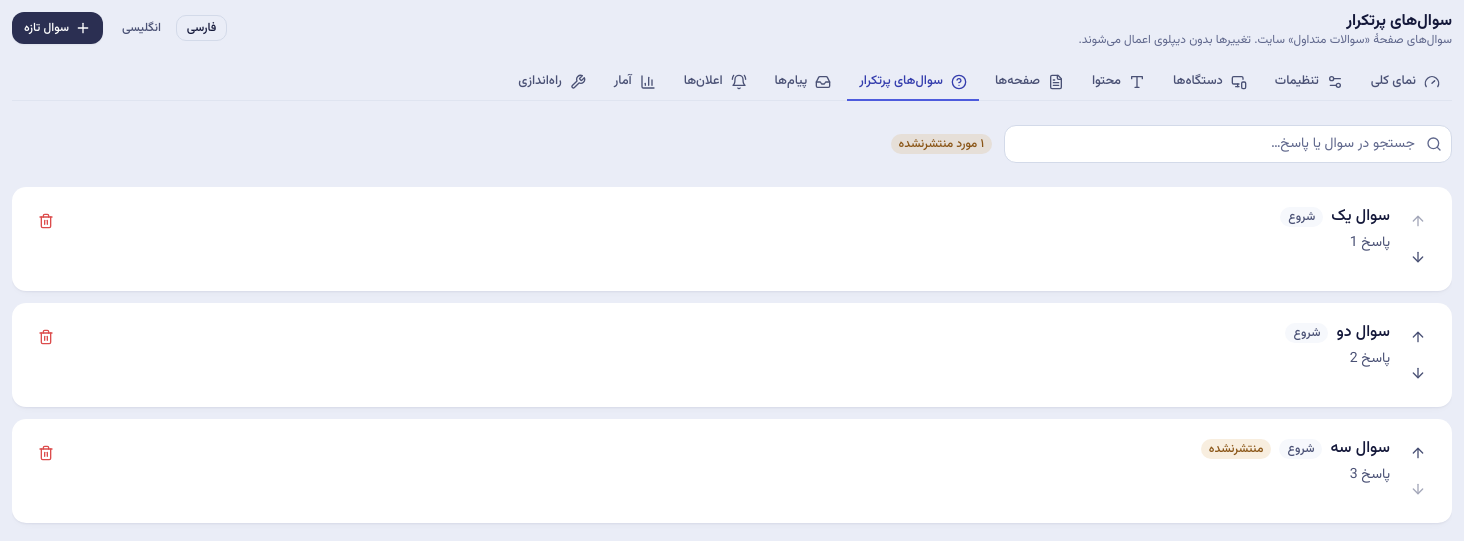
SiteFaq › cannot reorder while a search is hiding rows
This screenshot has width=1464, height=541.
expect the text "سوال یک" is shown: met, box [1331,205,1390,229]
Type "دو" into the field named "جستجو در سوال‌ها" at (1228, 144), box [1004,125,1452,163]
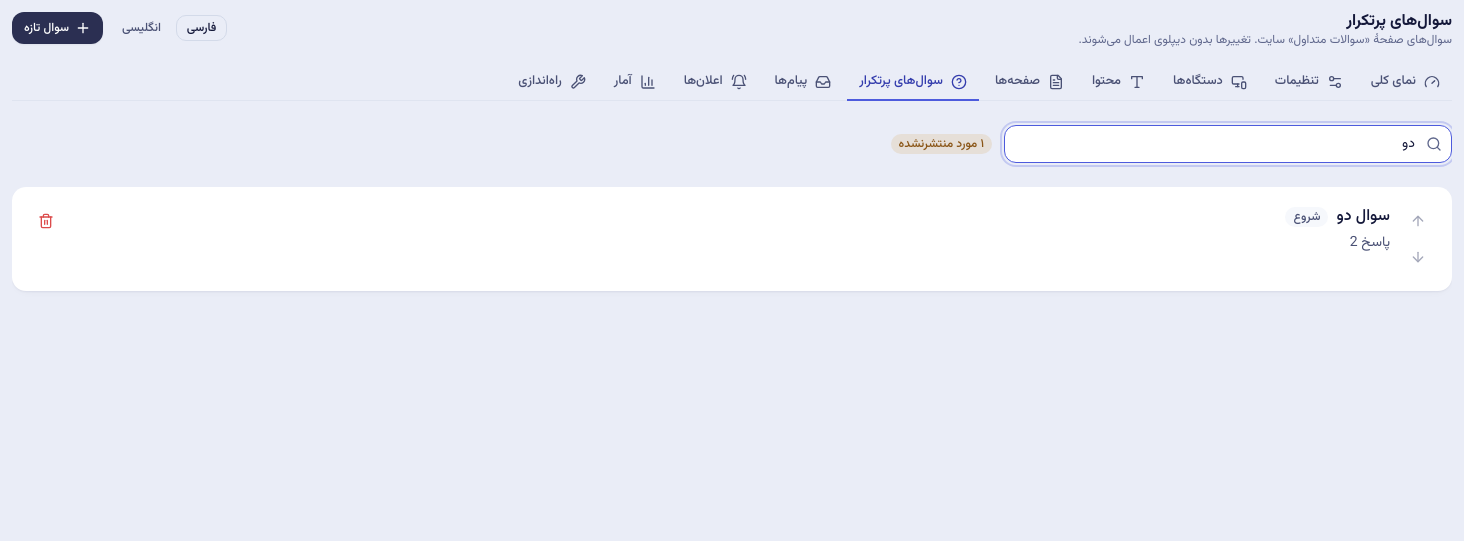
expect the button named "انتقال به" is disabled: met, box [1402,205,1434,237]
expect the button "سوال یک" is gone: met
